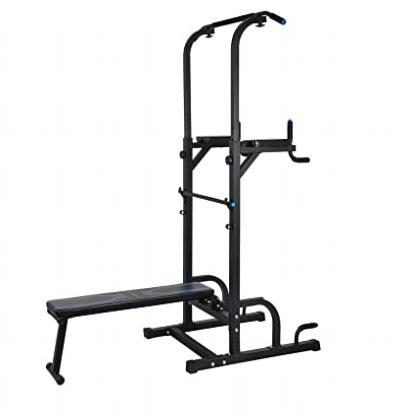chinning dipping: (182, 11, 322, 373)
